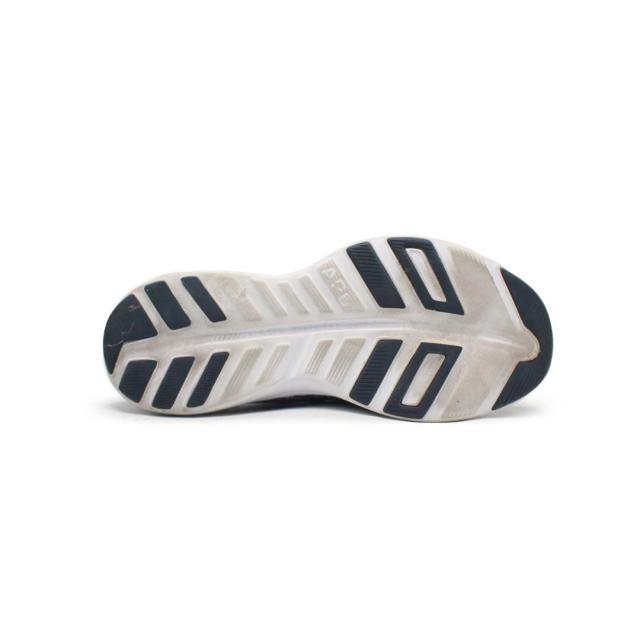outersole: (103, 237, 556, 423)
